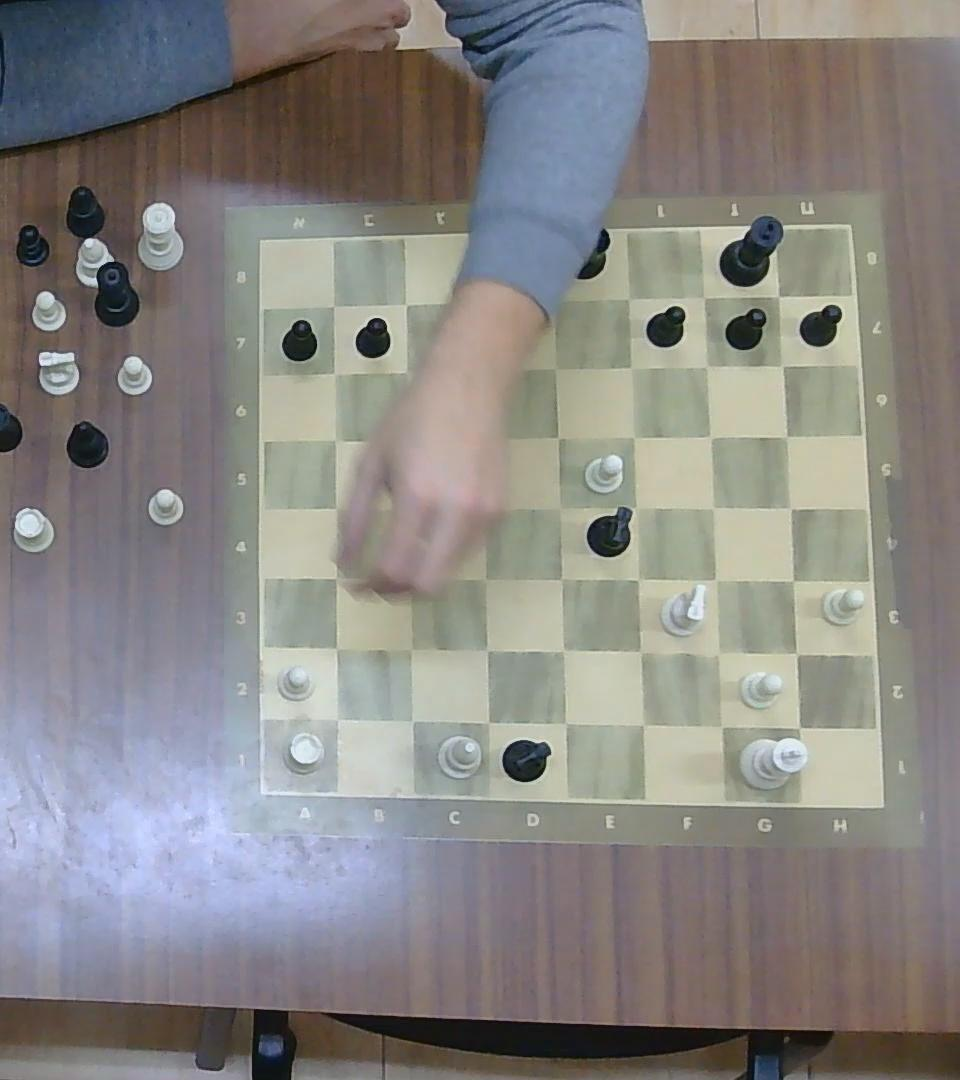xcorner: (781, 710, 815, 743), (536, 280, 570, 313), (705, 708, 736, 742), (702, 637, 734, 669), (625, 635, 656, 667), (626, 707, 657, 739), (471, 706, 502, 737), (320, 703, 351, 734), (781, 637, 812, 668), (548, 707, 579, 737), (548, 634, 578, 665), (396, 705, 427, 735), (320, 561, 350, 592), (466, 423, 497, 453), (471, 634, 501, 664), (395, 634, 425, 664), (393, 425, 423, 455), (623, 563, 652, 594), (321, 632, 350, 663), (548, 563, 577, 594), (397, 561, 426, 592), (700, 564, 730, 593), (698, 493, 728, 522), (470, 564, 500, 593), (776, 493, 806, 522), (321, 491, 350, 521), (544, 493, 573, 522), (622, 493, 651, 522), (470, 491, 498, 521), (777, 566, 806, 594), (616, 352, 645, 380), (543, 423, 571, 450), (615, 285, 643, 312), (620, 423, 648, 450), (395, 491, 420, 520), (461, 288, 487, 315), (697, 422, 723, 448), (773, 422, 799, 448), (693, 353, 720, 378), (322, 426, 348, 451), (541, 355, 567, 380), (466, 356, 491, 382), (322, 360, 347, 385), (393, 359, 419, 383), (393, 291, 417, 315), (691, 285, 716, 308), (322, 293, 345, 317), (770, 352, 793, 376), (767, 285, 791, 308)
